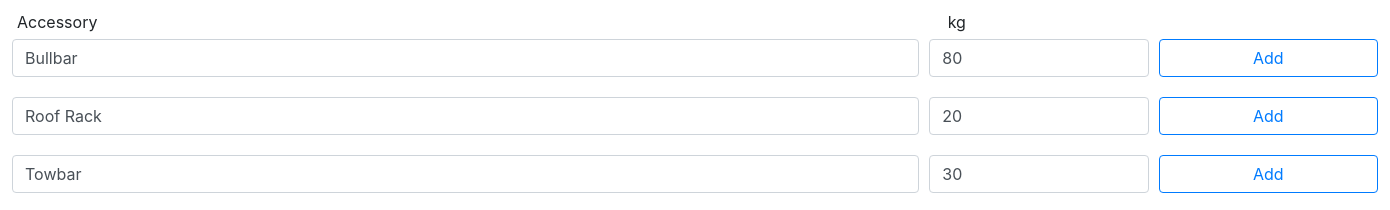
Test: Accessories Adder › Marks the accessory as added in the list when its added
Click the 2nd button with test id "btn-acc-off": {"x": 1268, "y": 116} [1159,97,1378,135]
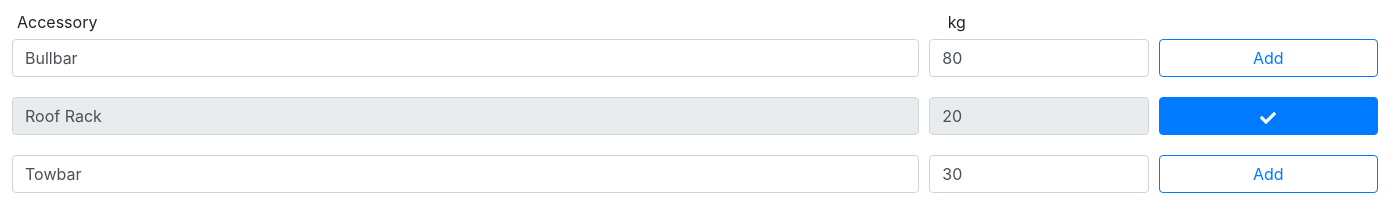
Expected: the number of fields with placeholder "Accessory" is 3, [12,39,919,77]; [12,97,919,135]; [12,155,919,193]
Now the number of buttons with test id "btn-acc-on" is 1, box [1159,97,1378,135]
Now the number of buttons with test id "btn-acc-off" is 2, box [1159,39,1378,77]; [1159,155,1378,193]
